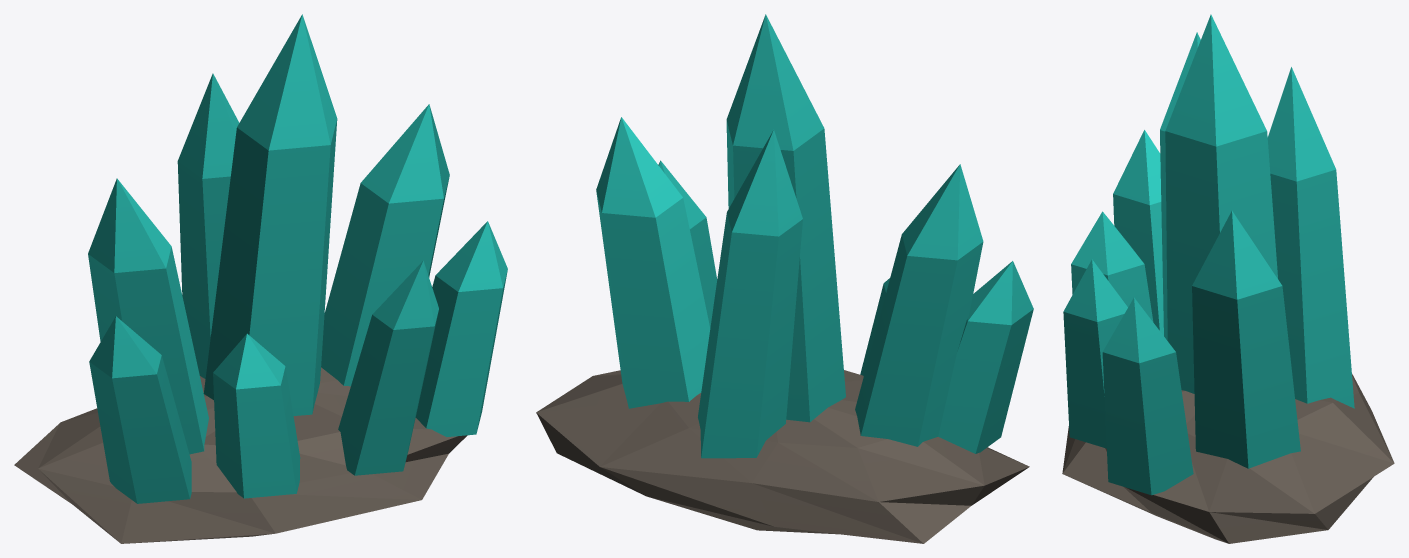
File: mine_crystals.glb
The picture shows the model from 3 angles, left to right: view 1: azimuth 30°, elevation 25°; view 2: azimuth 150°, elevation 25°; view 3: azimuth 270°, elevation 25°; orthographic projection. The views are drawn at different scales.
Visible parts, largest first — view 1: mine_crystals; view 2: mine_crystals; view 3: mine_crystals.
Boxes of the visible parts, <box> form: mine_crystals: <box>14,14,507,543</box>; mine_crystals: <box>536,14,1033,543</box>; mine_crystals: <box>1062,14,1394,543</box>.
Size of the model in its own units: 1.4 by 1.5 by 0.95.
